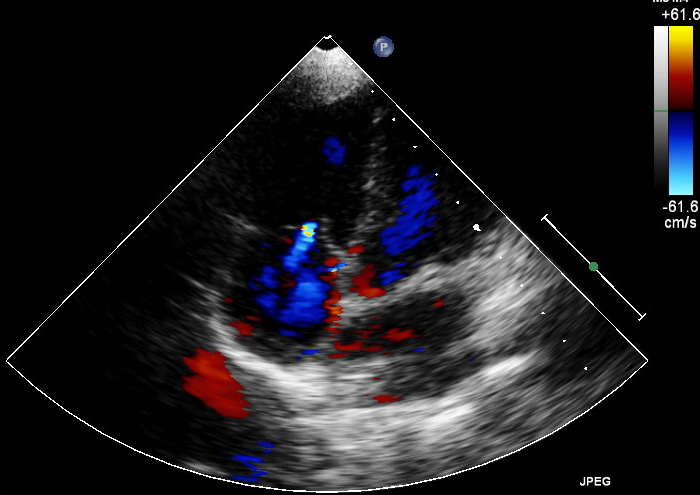TR: (252, 218, 341, 271)
